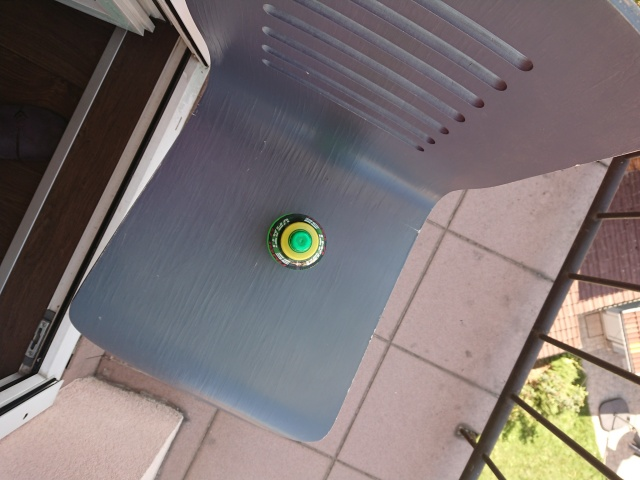Vindi Iso Sport Lemon-Grapefruit 500mL: (264, 210, 329, 273)
